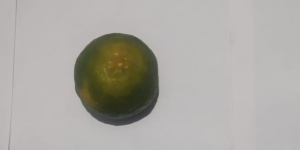BAD: (72, 29, 161, 125)
